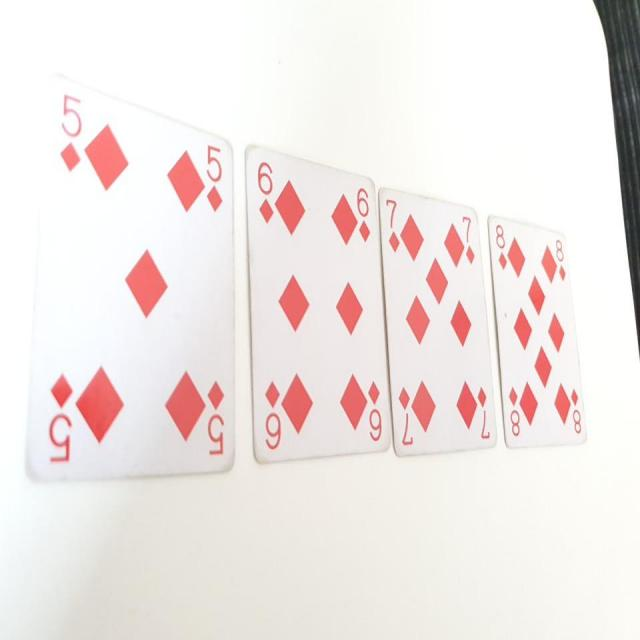5 Diamonds: (17, 64, 240, 481)
6 Diamonds: (242, 143, 391, 464)
7 Diamonds: (378, 186, 498, 455)
8 Diamonds: (486, 215, 586, 449)
